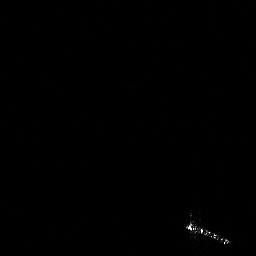ship: (182, 214, 234, 249)
